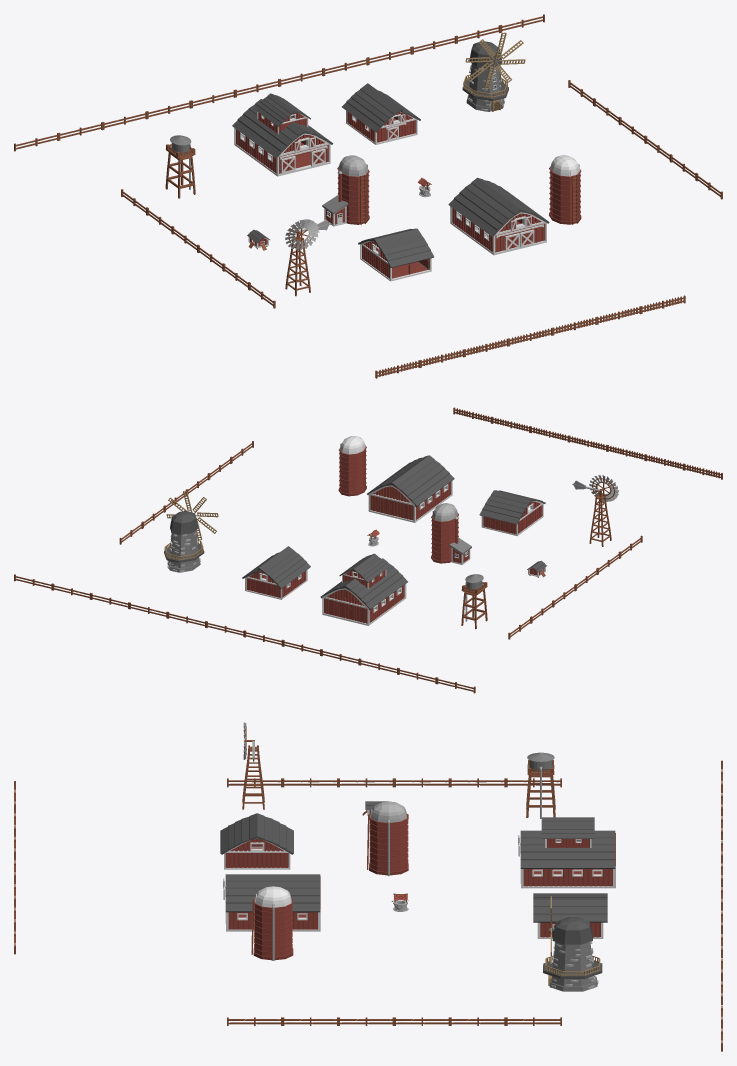
File: farms.fbx
The picture shows the model from 3 angles, top to bottom: view 1: azimuth 30°, elevation 25°; view 2: azimuth 150°, elevation 25°; view 3: azimuth 270°, elevation 25°; orthographic projection. The views are drawn at different scales.
Visible parts, largest first — view 1: BigBarn, Barn, Small_Barn, Fence.002, OpenBarn, Silo_House, Fence2, TowerWindmill, Silo, Windmill, WaterTower, TowerWindmill_Blades (+2 smaller); view 2: BigBarn, Barn, Fence.002, Small_Barn, OpenBarn, Silo_House, TowerWindmill, Fence2, Silo, Windmill, WaterTower, Fence (+2 smaller); view 3: BigBarn, Barn, OpenBarn, TowerWindmill, Silo_House, Silo, Small_Barn, Fence.001, Fence, WaterTower, Windmill, Fence.002.
Boxes of the visible parts, x1,y1,x2,y2 form: BigBarn: (232, 93, 332, 176); Barn: (448, 177, 549, 255); Small_Barn: (342, 83, 420, 144); Fence.002: (14, 14, 544, 151); OpenBarn: (358, 228, 434, 281); Silo_House: (322, 155, 369, 226); Fence2: (375, 295, 685, 378); TowerWindmill: (462, 41, 508, 111); Silo: (549, 155, 581, 224); Windmill: (285, 219, 330, 296); WaterTower: (165, 135, 195, 198); TowerWindmill_Blades: (465, 32, 525, 88); BigBarn: (320, 553, 407, 625); Barn: (367, 455, 454, 522); Fence.002: (14, 574, 475, 693); Small_Barn: (242, 546, 310, 599); OpenBarn: (479, 490, 545, 536); Silo_House: (431, 503, 471, 564); TowerWindmill: (164, 511, 204, 572); Fence2: (453, 407, 722, 479); Silo: (338, 435, 366, 496); Windmill: (572, 475, 618, 546); WaterTower: (461, 574, 487, 629); Fence: (508, 535, 642, 639); BigBarn: (518, 817, 615, 888); Barn: (225, 874, 320, 931); OpenBarn: (220, 813, 293, 869); TowerWindmill: (543, 917, 602, 991); Silo_House: (367, 801, 408, 876); Silo: (251, 886, 293, 960); Small_Barn: (533, 893, 607, 938); Fence.001: (227, 1017, 561, 1025); Fence: (227, 778, 561, 787); WaterTower: (526, 752, 555, 818); Windmill: (242, 722, 264, 809); Fence.002: (721, 760, 722, 1051).
Bounding box in the file's own units: 2699 × 368 × 2857.
